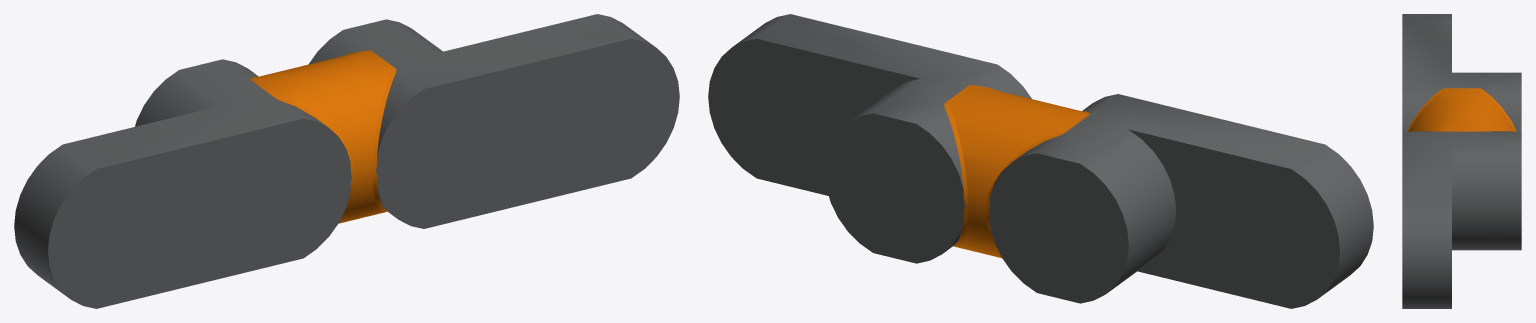
The picture shows the model from 3 angles, left to right: view 1: azimuth 30°, elevation 25°; view 2: azimuth 150°, elevation 25°; view 3: azimuth 270°, elevation 25°; orthographic projection. The views are drawn at different scales.
Parts seen in each view (by area): view 1: d1_LOD0, d1_col; view 2: d1_LOD0, d1_col; view 3: d1_LOD0, d1_col.
Boxes of the visible parts, <box> form: d1_LOD0: <box>14,14,679,308</box>; d1_col: <box>48,14,667,307</box>; d1_LOD0: <box>708,14,1373,308</box>; d1_col: <box>709,14,1339,303</box>; d1_LOD0: <box>1402,14,1521,308</box>; d1_col: <box>1402,14,1521,205</box>.
Size of what is drawn, in the model's own units: 54 by 11.93 by 12.
